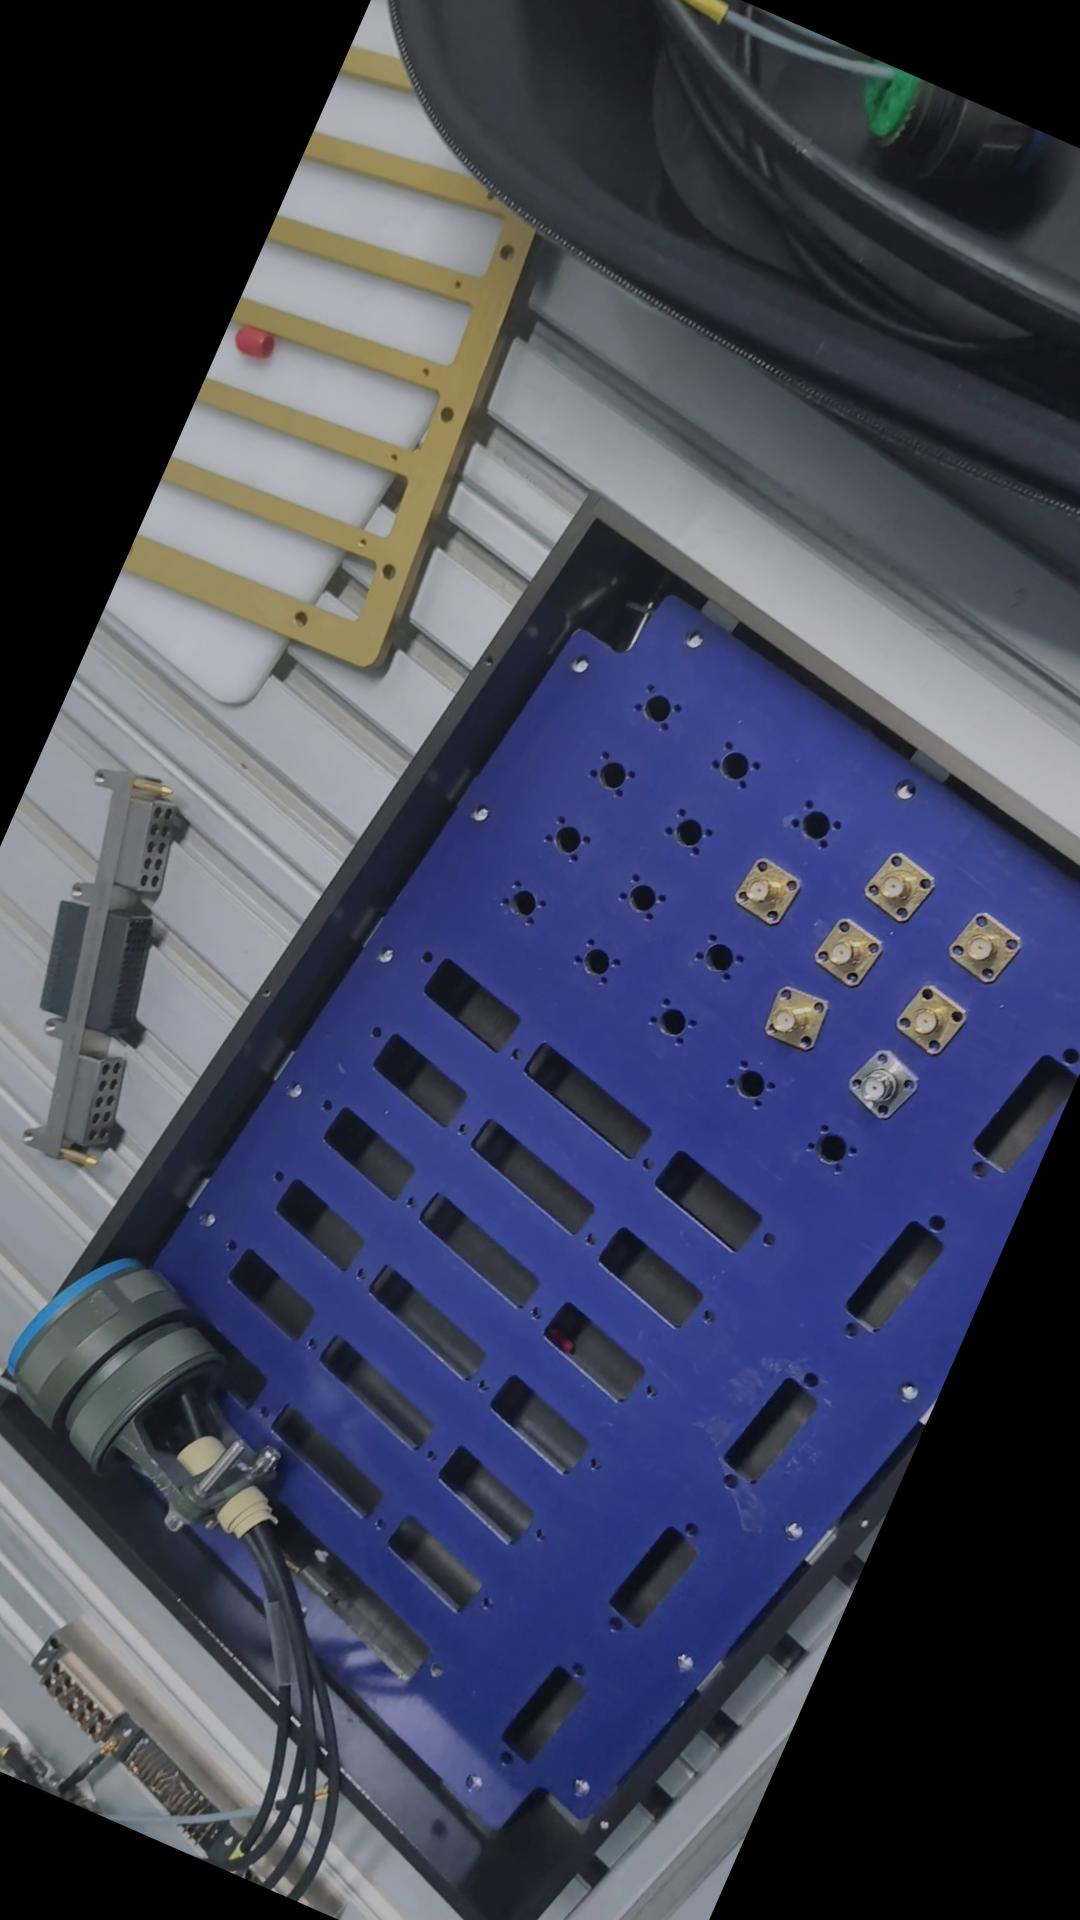SMA: (833, 1034, 926, 1129), (881, 972, 971, 1058), (940, 905, 1027, 992), (802, 907, 890, 993), (746, 975, 833, 1058), (855, 844, 936, 926), (721, 853, 803, 932)
